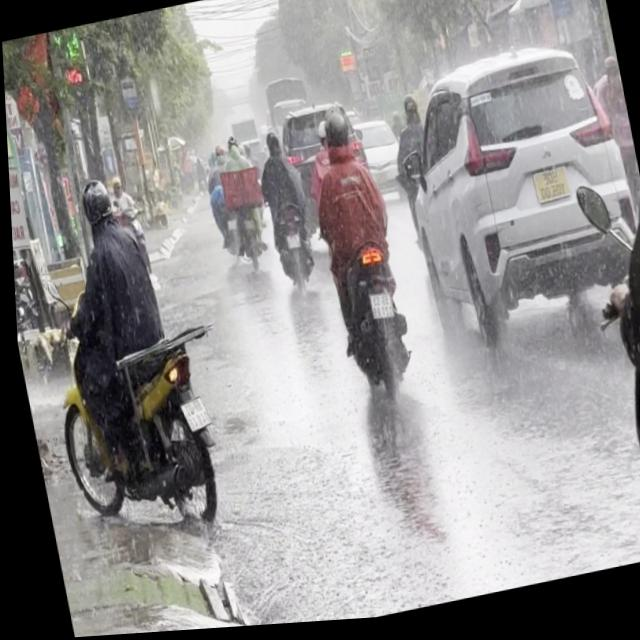helmet: (77, 175, 116, 235), (320, 110, 352, 160)
licenseplate: (13, 155, 234, 551), (536, 0, 640, 573), (292, 99, 424, 419)
nohelmet: (177, 399, 208, 433), (366, 296, 392, 325)
